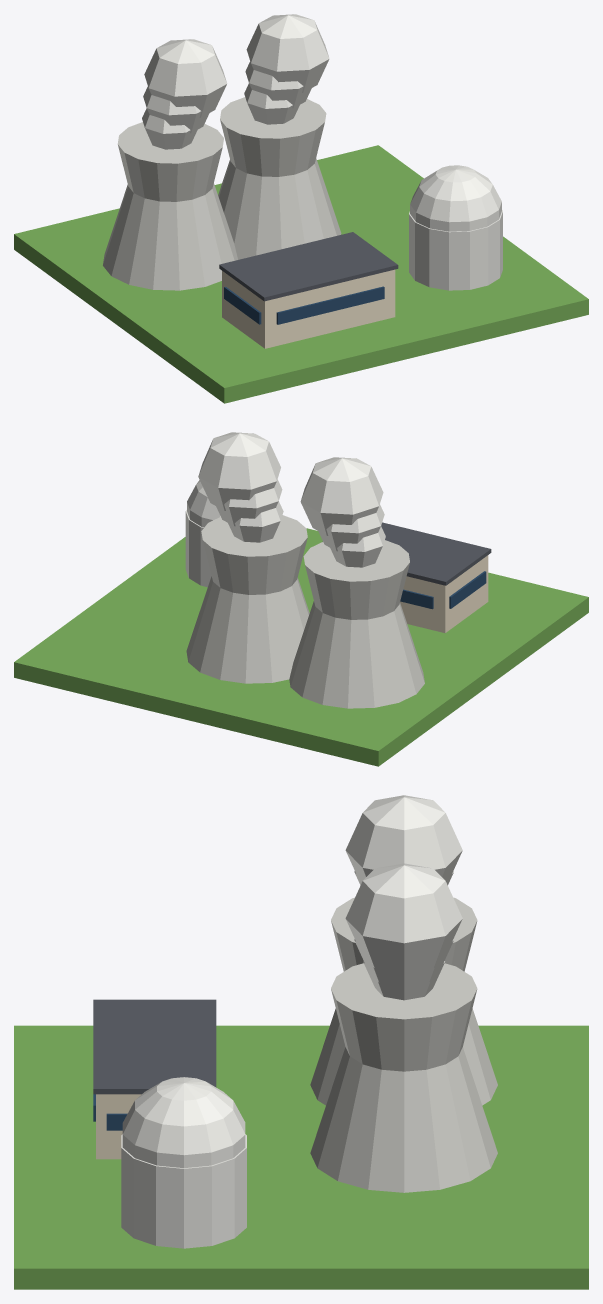
File: nuclear.glb
3 renders of one model, top to bottom at view 1: azimuth 30°, elevation 25°; view 2: azimuth 150°, elevation 25°; view 3: azimuth 270°, elevation 25°, orthographic. The views are drawn at different scales.
Parts seen in each view (by area): view 1: nuclear; view 2: nuclear; view 3: nuclear.
Boxes of the visible parts, bbox=[...] form: nuclear: bbox=[14, 14, 588, 403]; nuclear: bbox=[14, 432, 588, 766]; nuclear: bbox=[14, 795, 588, 1289].
Size of the model in its own units: 1.96 by 1.2 by 1.96.
